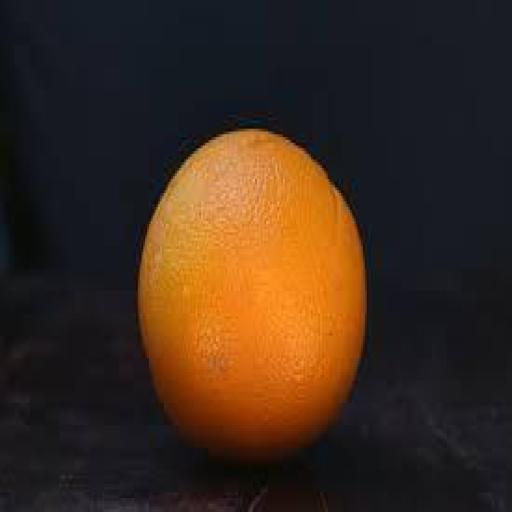orange: (138, 129, 366, 461)
